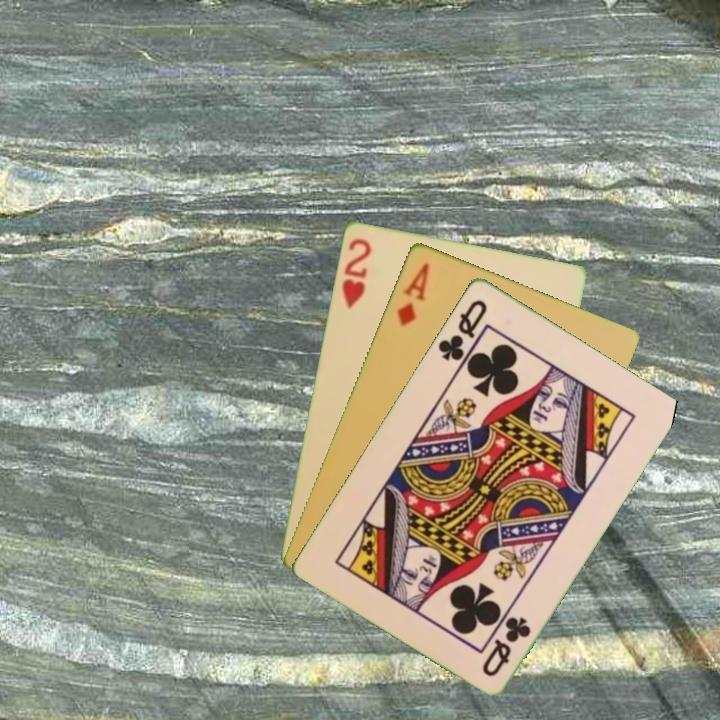2h: (338, 234, 374, 311)
Ad: (393, 258, 432, 328)
Qc: (434, 295, 490, 363), (478, 612, 534, 679)
